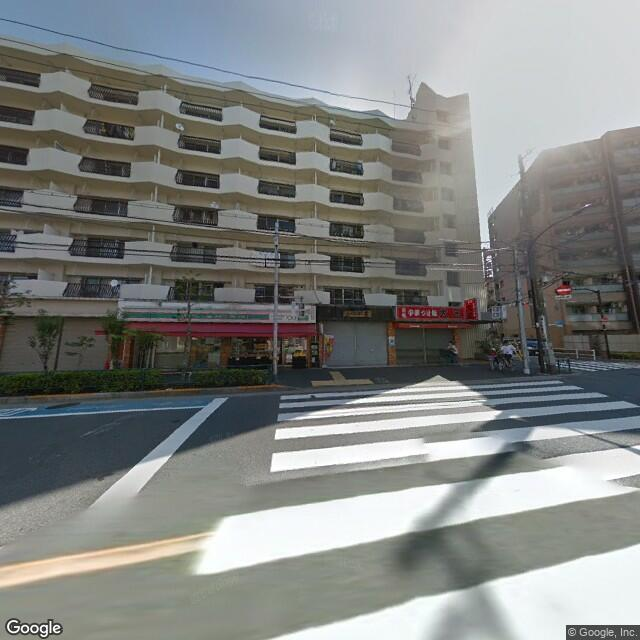lawson: (120, 300, 314, 326)
